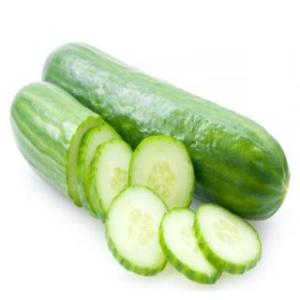cucumber: (35, 44, 290, 216), (8, 82, 116, 204), (126, 134, 194, 214), (102, 195, 169, 274), (193, 202, 262, 276), (156, 208, 221, 284), (90, 137, 132, 226)
